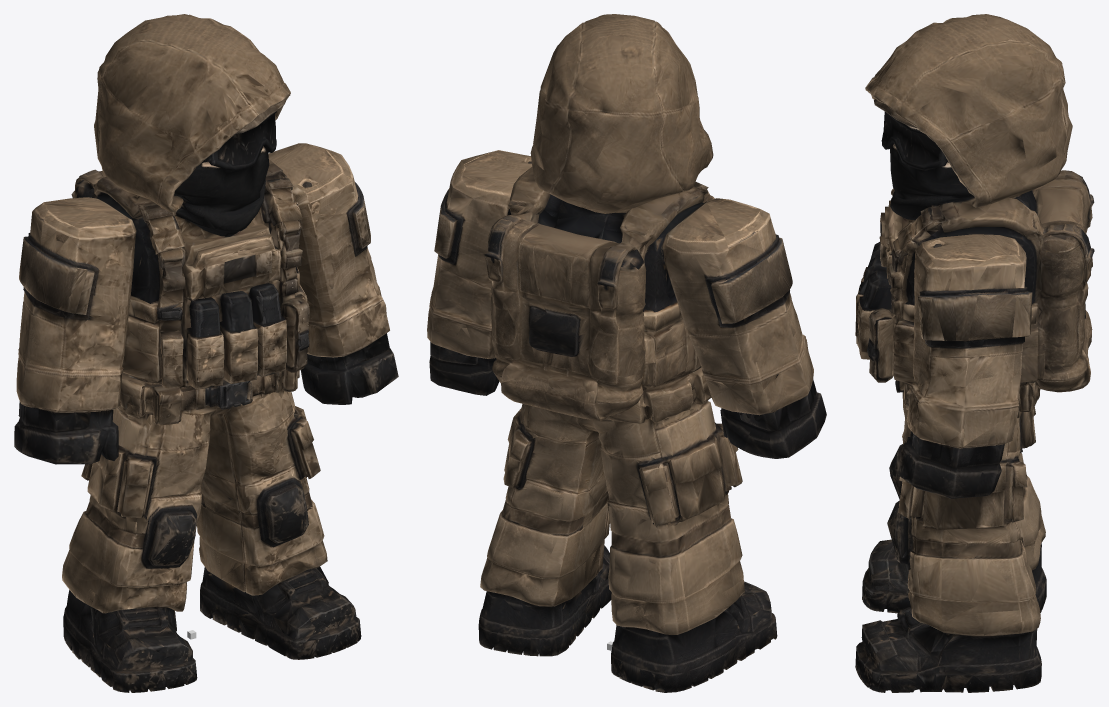
Rendered from AS_TacticalScout.glb.
3 views of the same model, side by side, from view 1: azimuth 30°, elevation 25°; view 2: azimuth 150°, elevation 25°; view 3: azimuth 270°, elevation 25° (orthographic).
Parts seen in each view (by area): view 1: Head_Suit, UpperTorso_Suit, LeftFoot_Suit, RightFoot_Suit, RightLowerArm_Suit, LeftUpperLeg_Suit, RightLowerLeg_Suit, RightUpperArm_Suit, LowerTorso_Suit, LeftLowerLeg_Suit, RightUpperLeg_Suit, LeftLowerArm_Suit (+3 smaller); view 2: Head_Suit, UpperTorso_Suit, RightLowerLeg_Suit, RightFoot_Suit, LowerTorso_Suit, RightUpperArm_Suit, LeftFoot_Suit, LeftLowerLeg_Suit, RightUpperLeg_Suit, RightLowerArm_Suit, LeftUpperLeg_Suit, RightHand_Suit (+3 smaller); view 3: Head_Suit, UpperTorso_Suit, LeftFoot_Suit, LeftLowerLeg_Suit, LeftLowerArm_Suit, LeftUpperArm_Suit, LeftHand_Suit, LeftUpperLeg_Suit, RightFoot_Suit, LowerTorso_Suit, RightLowerLeg_Suit, RightUpperLeg_Suit.
Part boxes in pixels (left/top/right/bottom): Head_Suit: left=32, top=14, right=352, bottom=246; UpperTorso_Suit: left=71, top=170, right=309, bottom=419; LeftFoot_Suit: left=199, top=537, right=361, bottom=659; RightFoot_Suit: left=62, top=560, right=197, bottom=692; RightLowerArm_Suit: left=17, top=287, right=143, bottom=433; LeftUpperLeg_Suit: left=201, top=391, right=320, bottom=533; RightLowerLeg_Suit: left=63, top=495, right=200, bottom=652; RightUpperArm_Suit: left=19, top=199, right=136, bottom=351; LowerTorso_Suit: left=112, top=363, right=306, bottom=467; LeftLowerLeg_Suit: left=197, top=475, right=345, bottom=614; RightUpperLeg_Suit: left=81, top=408, right=224, bottom=559; LeftLowerArm_Suit: left=297, top=241, right=389, bottom=366; Head_Suit: left=450, top=14, right=770, bottom=254; UpperTorso_Suit: left=483, top=162, right=714, bottom=417; RightLowerLeg_Suit: left=608, top=494, right=768, bottom=648; RightFoot_Suit: left=611, top=580, right=777, bottom=692; LowerTorso_Suit: left=493, top=366, right=724, bottom=465; RightUpperArm_Suit: left=663, top=198, right=797, bottom=351; LeftFoot_Suit: left=478, top=544, right=611, bottom=656; LeftLowerLeg_Suit: left=483, top=478, right=609, bottom=611; RightUpperLeg_Suit: left=592, top=388, right=742, bottom=566; RightLowerArm_Suit: left=678, top=289, right=813, bottom=424; LeftUpperLeg_Suit: left=503, top=403, right=608, bottom=532; RightHand_Suit: left=705, top=378, right=826, bottom=458; Head_Suit: left=865, top=14, right=1077, bottom=269; UpperTorso_Suit: left=855, top=171, right=1094, bottom=411; LeftFoot_Suit: left=855, top=591, right=1041, bottom=692; LeftLowerLeg_Suit: left=873, top=507, right=1038, bottom=651; LeftLowerArm_Suit: left=908, top=315, right=1030, bottom=464; LeftUpperArm_Suit: left=913, top=238, right=1032, bottom=380; LeftHand_Suit: left=898, top=404, right=1015, bottom=498; LeftUpperLeg_Suit: left=890, top=412, right=1027, bottom=567; RightFoot_Suit: left=862, top=526, right=1046, bottom=613; LowerTorso_Suit: left=871, top=329, right=1092, bottom=465; RightLowerLeg_Suit: left=888, top=452, right=1045, bottom=569; RightUpperLeg_Suit: left=890, top=405, right=1035, bottom=497.
Size of the model in its own units: 3.32 by 5.22 by 1.85.
2 materials, 1 textured.
